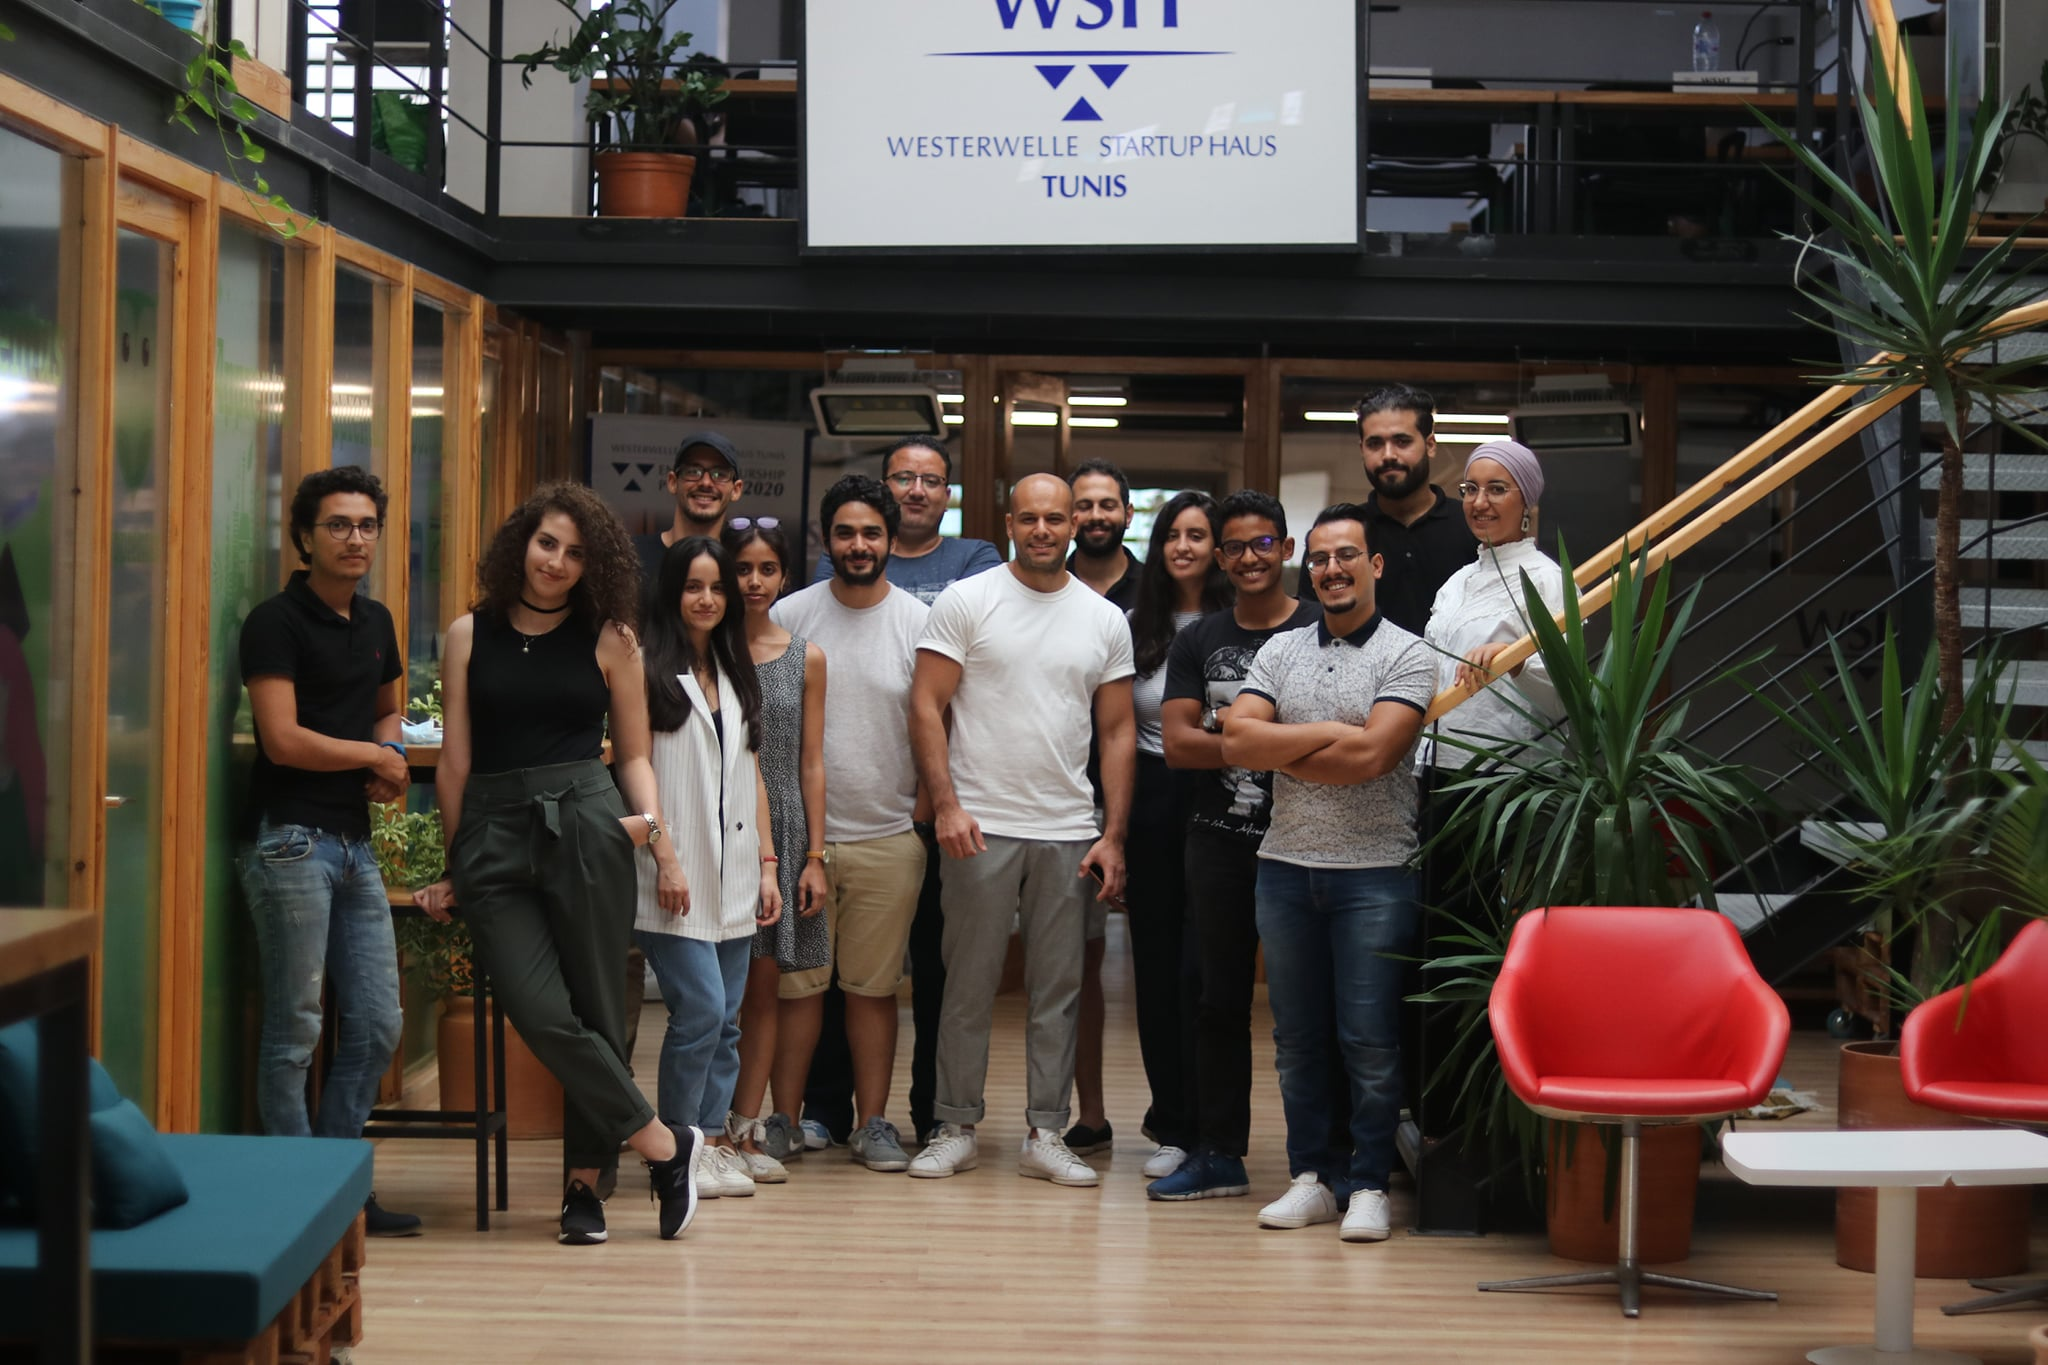without_mask: (1311, 541, 1365, 611), (827, 523, 889, 580), (1459, 477, 1515, 538), (533, 529, 582, 598), (1364, 430, 1422, 485), (893, 467, 944, 529), (1218, 538, 1280, 588), (1017, 508, 1067, 567), (744, 552, 792, 613), (324, 516, 381, 567), (1077, 492, 1127, 549), (683, 460, 731, 518), (680, 574, 727, 629), (1158, 521, 1206, 573)
